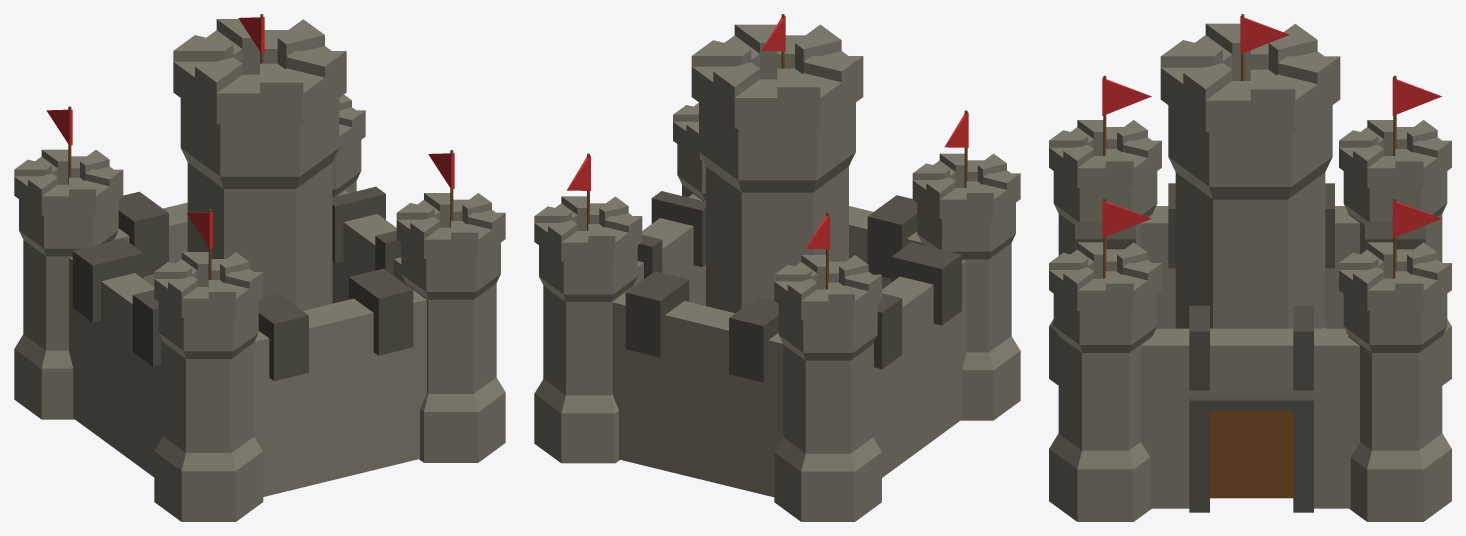
The model's file is Castle.fbx.
3 renders of one model, left to right at view 1: azimuth 30°, elevation 25°; view 2: azimuth 150°, elevation 25°; view 3: azimuth 270°, elevation 25°, orthographic. The views are drawn at different scales.
Parts seen in each view (by area): view 1: Cylinder.004, Cube.002, Cylinder.003, Cylinder, Cylinder.002, Cube.003, Cube.001, Cube.004, Cylinder.001, Cube.006, Cube.008, Cube.007 (+1 smaller); view 2: Cylinder.004, Cube.004, Cylinder.002, Cylinder.001, Cylinder.003, Cube.003, Cube.001, Cube.002, Cylinder, Cube.007, Cube.008, Cube.005 (+1 smaller); view 3: Cylinder.004, Cube.001, Cylinder.001, Cylinder, Cylinder.002, Cylinder.003, Cube.003, Cube.005, Cube.008, Cube.006, Cube.002, Cube.007 (+2 smaller).
Part boxes in pixels (x1,y1,x2,y2): Cylinder.004: (173, 19, 346, 310); Cube.002: (254, 268, 426, 496); Cylinder.003: (154, 252, 263, 521); Cylinder: (396, 193, 505, 462); Cylinder.002: (14, 149, 123, 419); Cube.003: (69, 238, 163, 476); Cube.001: (332, 186, 405, 303); Cube.004: (114, 191, 187, 286); Cylinder.001: (332, 95, 365, 196); Cube.006: (428, 150, 454, 227); Cube.008: (46, 106, 72, 184); Cube.007: (186, 209, 212, 279); Cylinder.004: (691, 24, 863, 312); Cube.004: (612, 271, 783, 497); Cylinder.002: (774, 255, 881, 521); Cylinder.001: (534, 196, 642, 463); Cylinder.003: (912, 153, 1020, 420); Cube.003: (873, 242, 966, 477); Cube.001: (633, 191, 705, 305); Cube.002: (849, 195, 921, 289); Cylinder: (673, 103, 705, 201); Cube.007: (944, 110, 968, 187); Cube.008: (806, 212, 830, 289); Cube.005: (566, 153, 590, 230); Cylinder.004: (1160, 23, 1340, 328); Cube.001: (1141, 305, 1359, 512); Cylinder.001: (1339, 242, 1451, 521); Cylinder: (1049, 242, 1161, 521); Cylinder.002: (1339, 120, 1451, 385); Cylinder.003: (1049, 120, 1161, 385); Cube.003: (1141, 183, 1359, 328); Cube.005: (1392, 198, 1441, 278); Cube.008: (1392, 75, 1441, 155); Cube.006: (1102, 198, 1151, 278); Cube.002: (1075, 221, 1135, 250); Cube.007: (1102, 75, 1151, 155).
Size of the model in its own units: 1904 by 2301 by 1978.
